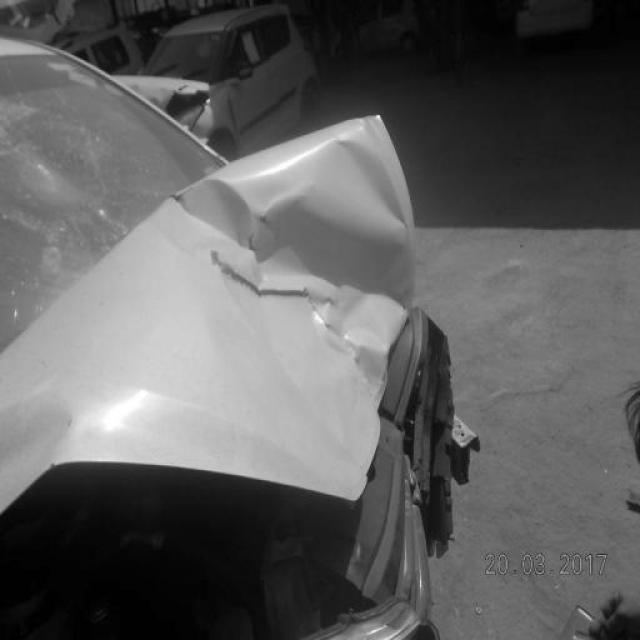crack: (0, 92, 118, 244)
crush: (0, 112, 474, 640)
